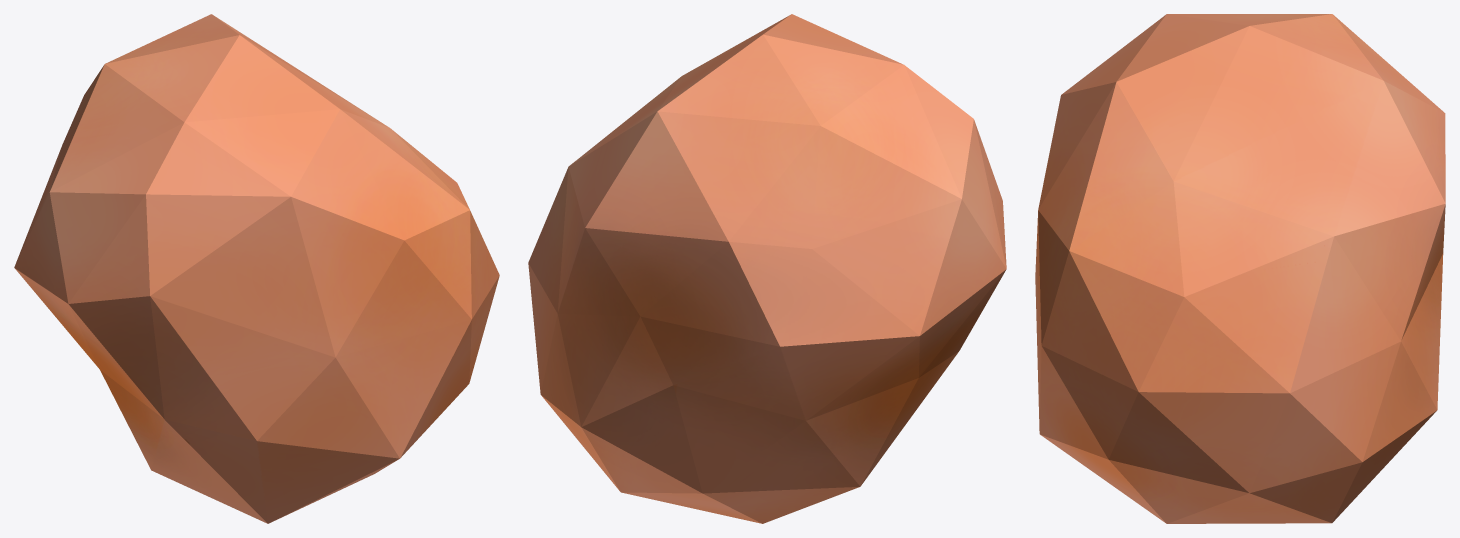
The model's file is metoroid2.fbx.
3 renders of one model, left to right at view 1: azimuth 30°, elevation 25°; view 2: azimuth 150°, elevation 25°; view 3: azimuth 270°, elevation 25°, orthographic. The views are drawn at different scales.
Parts seen in each view (by area): view 1: Icosphere; view 2: Icosphere; view 3: Icosphere.
Part boxes in pixels (left/top/right/bottom): Icosphere: left=14, top=14, right=499, bottom=523; Icosphere: left=528, top=14, right=1006, bottom=523; Icosphere: left=1035, top=14, right=1445, bottom=523.
Size of the model in its own units: 183 by 200 by 153.
